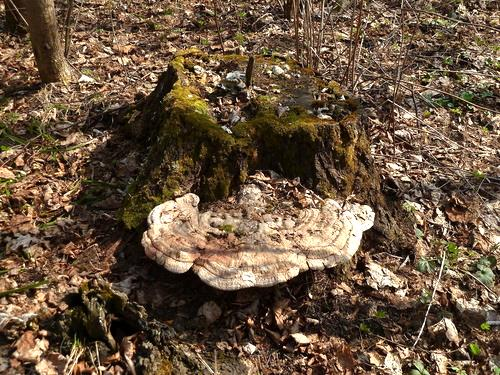Ganoderma - Fruit Body: (142, 178, 377, 296)
